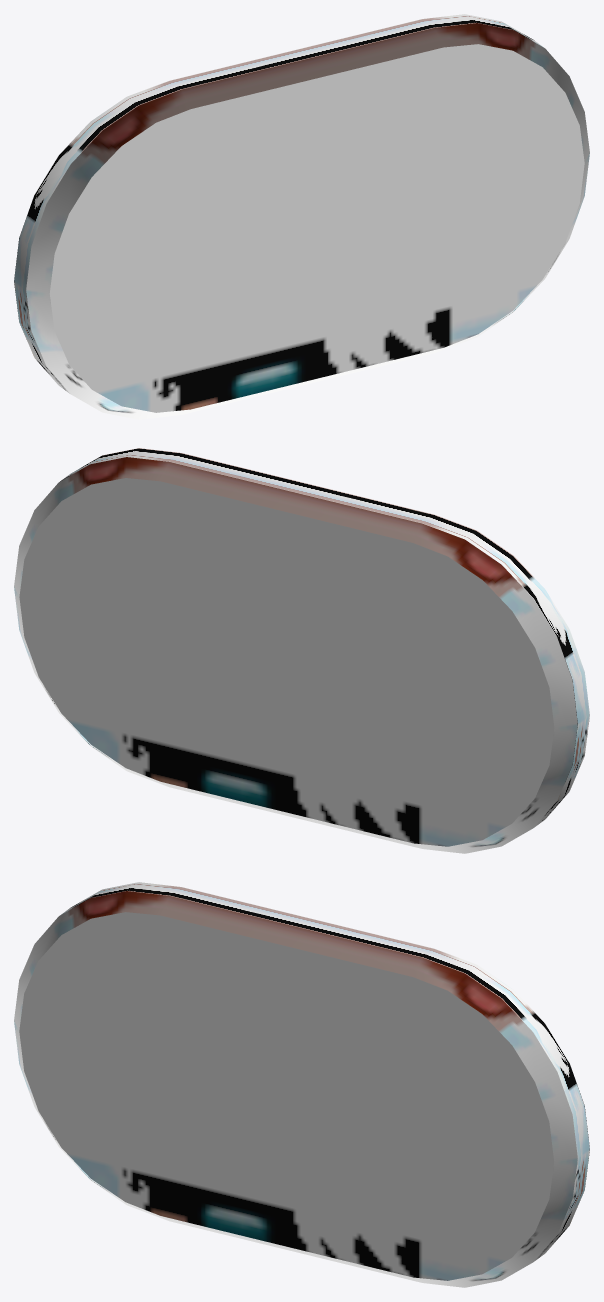
File: static.ico.obj
3 views of the same model, one above another, from view 1: azimuth 30°, elevation 25°; view 2: azimuth 150°, elevation 25°; view 3: azimuth 330°, elevation 25° (orthographic).
Bounding box in the file's own units: 4.7 × 2.59 × 0.4375.
